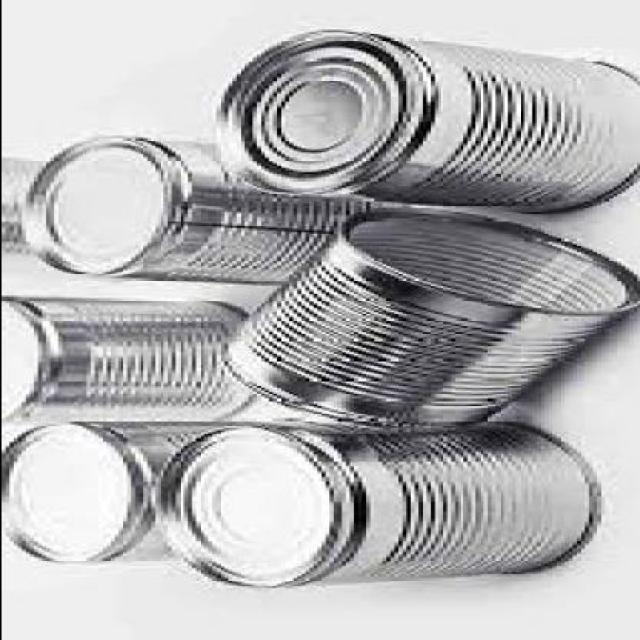METAL: (215, 202, 636, 426), (211, 26, 635, 212), (147, 420, 596, 588), (12, 136, 397, 284), (2, 296, 255, 424), (2, 418, 210, 568)
